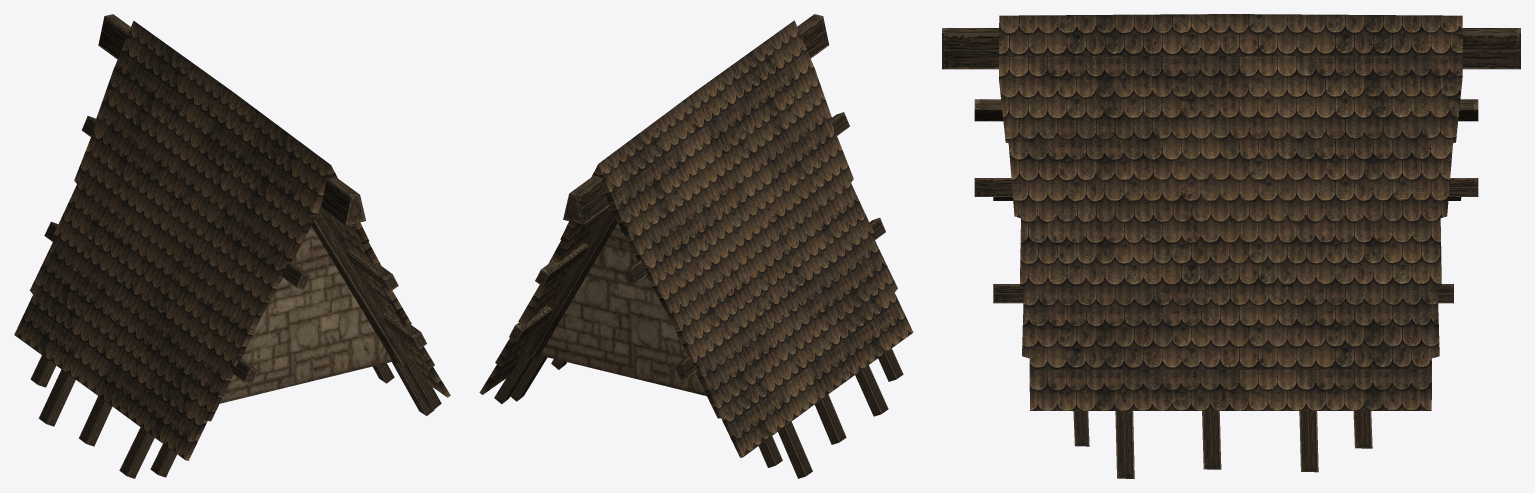
Rendered from Roof_8X8_01b.fbx.
The picture shows the model from 3 angles, left to right: view 1: azimuth 30°, elevation 25°; view 2: azimuth 150°, elevation 25°; view 3: azimuth 270°, elevation 25°; orthographic projection. The views are drawn at different scales.
Visible parts, largest first — view 1: Roof_8X8_01b; view 2: Roof_8X8_01b; view 3: Roof_8X8_01b.
Boxes of the visible parts, <box> form: Roof_8X8_01b: <box>14,14,450,478</box>; Roof_8X8_01b: <box>479,14,913,478</box>; Roof_8X8_01b: <box>942,14,1520,478</box>.
Bounding box in the file's own units: 10.43 × 10.61 × 14.58.
